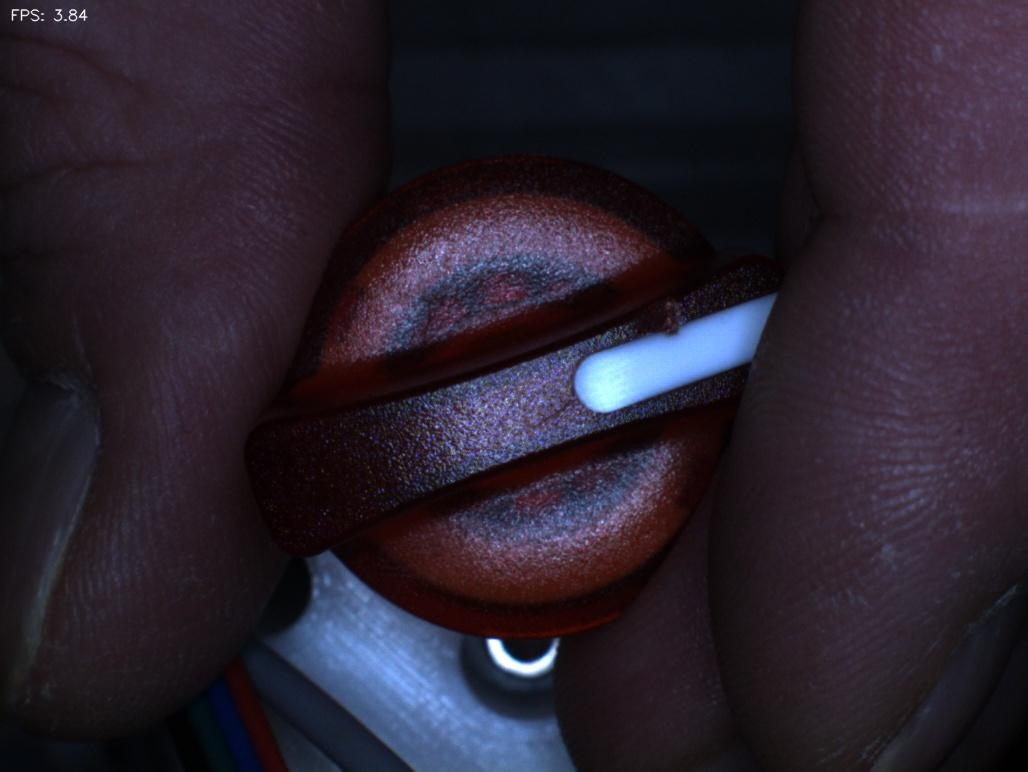Choc: (612, 270, 705, 355)
